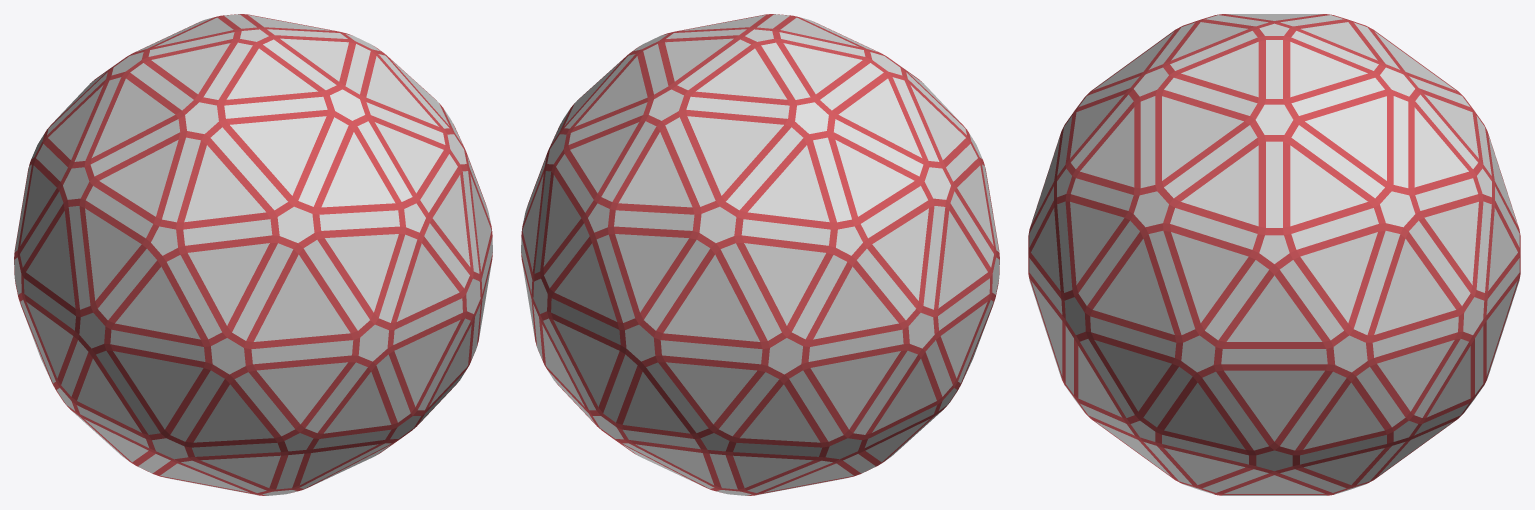
Rendered from bomb_0804b.fbx.
The picture shows the model from 3 angles, left to right: view 1: azimuth 30°, elevation 25°; view 2: azimuth 150°, elevation 25°; view 3: azimuth 270°, elevation 25°; orthographic projection. The views are drawn at different scales.
Parts seen in each view (by area): view 1: Icosphere.002; view 2: Icosphere.002; view 3: Icosphere.002.
Boxes of the visible parts, bbox=[...] form: Icosphere.002: bbox=[14, 14, 492, 495]; Icosphere.002: bbox=[521, 14, 999, 495]; Icosphere.002: bbox=[1028, 14, 1520, 495].
Size of the model in its own units: 9.84 by 10.12 by 10.06.
